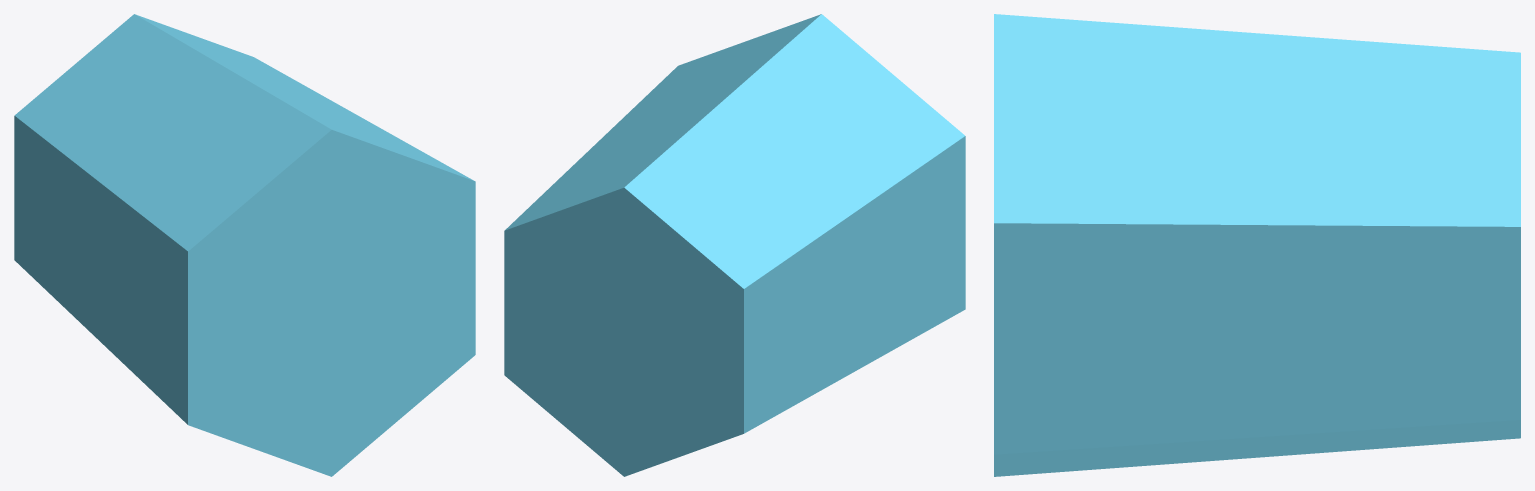
The model's file is CoconutOilJar.obj.
The picture shows the model from 3 angles, left to right: view 1: azimuth 30°, elevation 25°; view 2: azimuth 150°, elevation 25°; view 3: azimuth 270°, elevation 25°; orthographic projection. The views are drawn at different scales.
Visible parts, largest first — view 1: glass; view 2: glass; view 3: glass.
Part boxes in pixels (x1,y1,x2,y2): glass: (14, 14, 475, 476); glass: (504, 14, 965, 476); glass: (994, 14, 1520, 476).
Bounding box in the file's own units: 0.1197 × 0.1382 × 0.1426.
